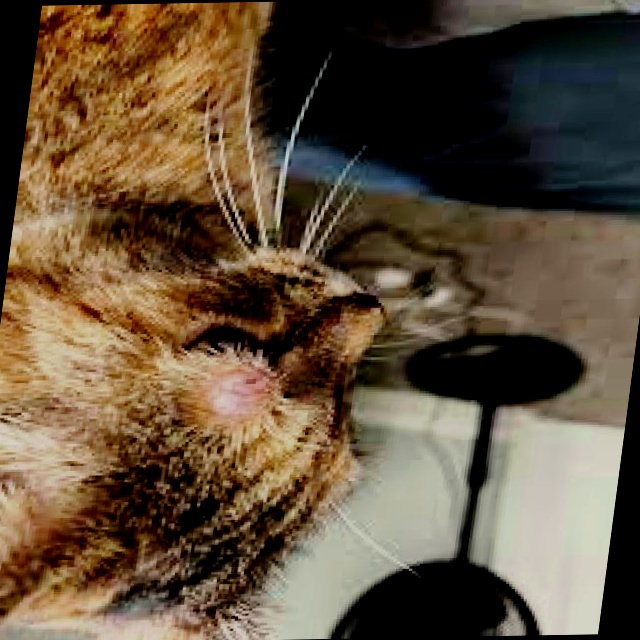lump_and_bump: (201, 359, 292, 430)
